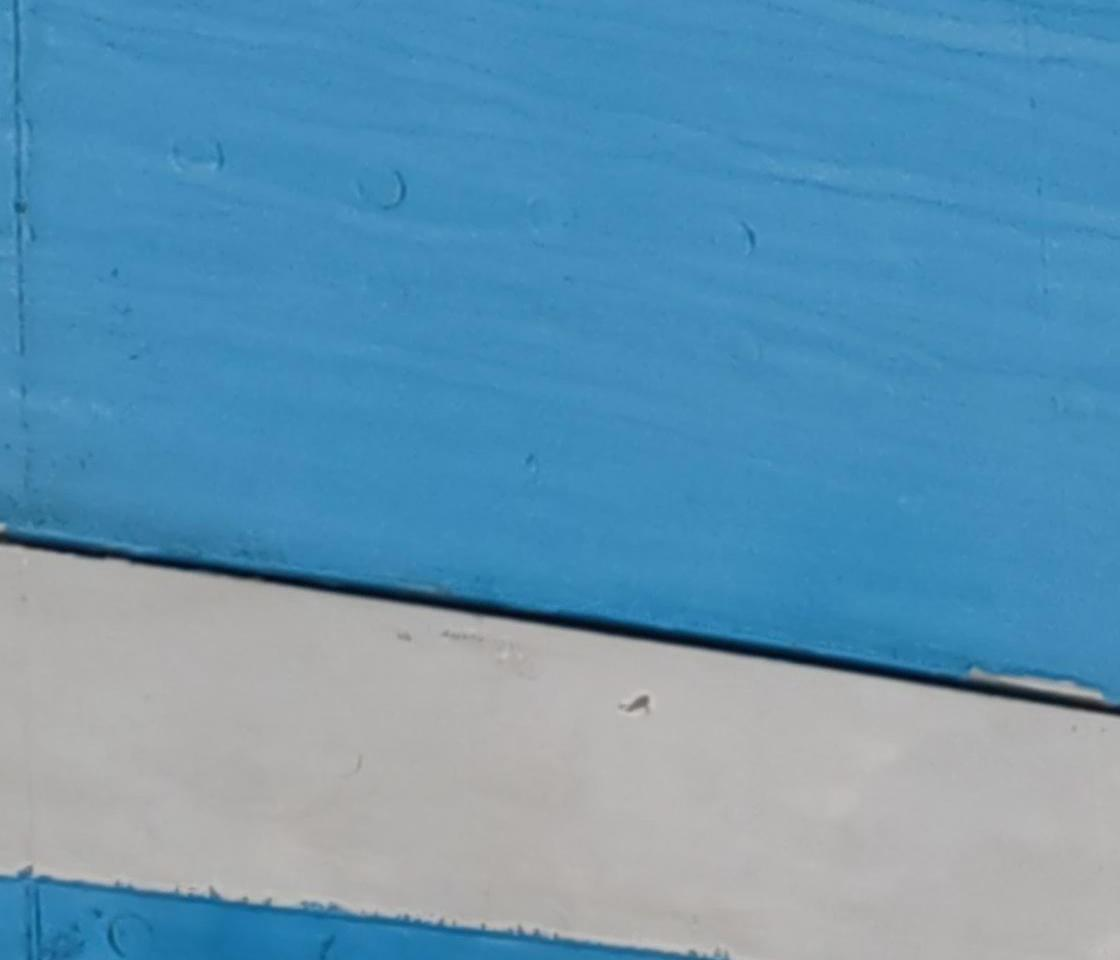scratch: (616, 691, 655, 722)
